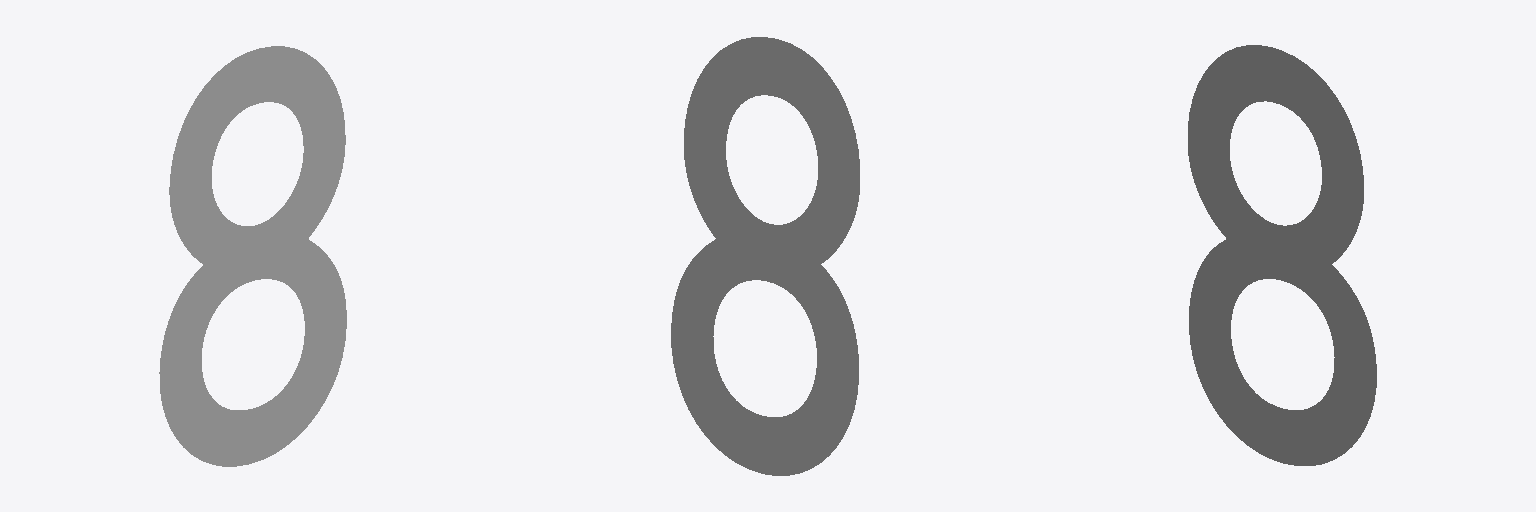
The model's file is eight.obj.
The picture shows the model from 3 angles: view 1: azimuth 30°, elevation 25°; view 2: azimuth 150°, elevation 25°; view 3: azimuth 330°, elevation 25°; orthographic projection.
Visible parts, largest first — view 1: Text; view 2: Text; view 3: Text.
Boxes of the visible parts, <box> form: Text: <box>159,46,346,466</box>; Text: <box>671,37,859,475</box>; Text: <box>1188,45,1376,465</box>.
Bounding box in the file's own units: 0.735 × 1.59 × 0.0874.